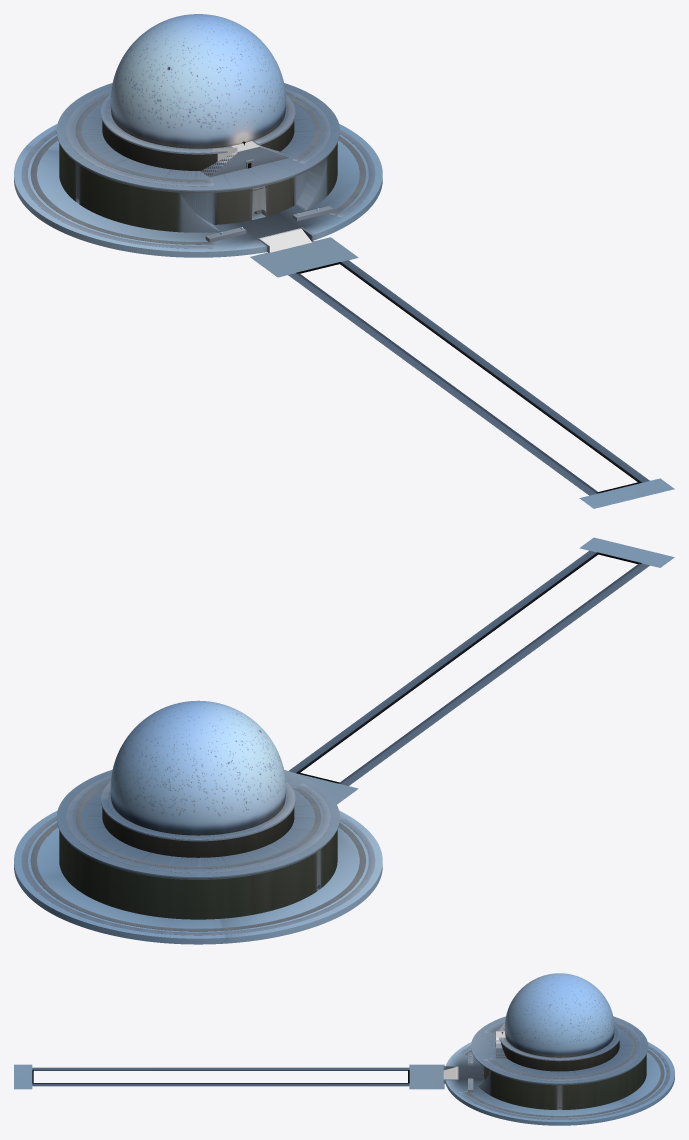
The model's file is monument.glb.
The picture shows the model from 3 angles, top to bottom: view 1: azimuth 30°, elevation 25°; view 2: azimuth 150°, elevation 25°; view 3: azimuth 270°, elevation 25°; orthographic projection. The views are drawn at different scales.
Visible parts, largest first — view 1: Sphere (Ø150 m shell), Ground terrace (platform), Drum (main cylinder), Esplanade and walks, Drum corona and terrace, Planting beds, Upper tier, Basin coping, Front stair block, Upper tier cornice and terrace, COL_main_stair; view 2: Sphere (Ø150 m shell), Ground terrace (platform), Drum (main cylinder), Planting beds, Drum corona and terrace, Esplanade and walks, Upper tier, Basin coping, Upper tier cornice and terrace; view 3: Sphere (Ø150 m shell), Ground terrace (platform), Drum (main cylinder), Esplanade and walks, Drum corona and terrace, Planting beds, Upper tier, Basin coping, Upper tier cornice and terrace.
Boxes of the visible parts, bbox=[...] form: Sphere (Ø150 m shell): bbox=[110, 14, 286, 148]; Ground terrace (platform): bbox=[14, 124, 382, 257]; Drum (main cylinder): bbox=[59, 143, 337, 232]; Esplanade and walks: bbox=[250, 237, 674, 508]; Drum corona and terrace: bbox=[56, 83, 339, 191]; Planting beds: bbox=[21, 88, 375, 248]; Upper tier: bbox=[102, 121, 294, 170]; Basin coping: bbox=[296, 262, 641, 493]; Front stair block: bbox=[201, 145, 288, 177]; Upper tier cornice and terrace: bbox=[101, 94, 295, 154]; COL_main_stair: bbox=[260, 228, 312, 252]; Sphere (Ø150 m shell): bbox=[110, 700, 286, 835]; Ground terrace (platform): bbox=[14, 810, 382, 944]; Drum (main cylinder): bbox=[59, 830, 337, 919]; Planting beds: bbox=[21, 775, 375, 935]; Drum corona and terrace: bbox=[56, 769, 339, 878]; Esplanade and walks: bbox=[289, 537, 674, 804]; Upper tier: bbox=[102, 807, 294, 857]; Basin coping: bbox=[296, 552, 641, 783]; Upper tier cornice and terrace: bbox=[101, 781, 295, 841]; Sphere (Ø150 m shell): bbox=[504, 973, 614, 1057]; Ground terrace (platform): bbox=[445, 1042, 674, 1125]; Drum (main cylinder): bbox=[478, 1054, 646, 1109]; Esplanade and walks: bbox=[14, 1064, 444, 1089]; Drum corona and terrace: bbox=[471, 1016, 648, 1084]; Planting beds: bbox=[459, 1020, 670, 1119]; Upper tier: bbox=[501, 1040, 619, 1071]; Basin coping: bbox=[32, 1070, 409, 1083]; Upper tier cornice and terrace: bbox=[499, 1023, 620, 1061].
Bounding box in the file's own units: 315 × 150 × 902.
